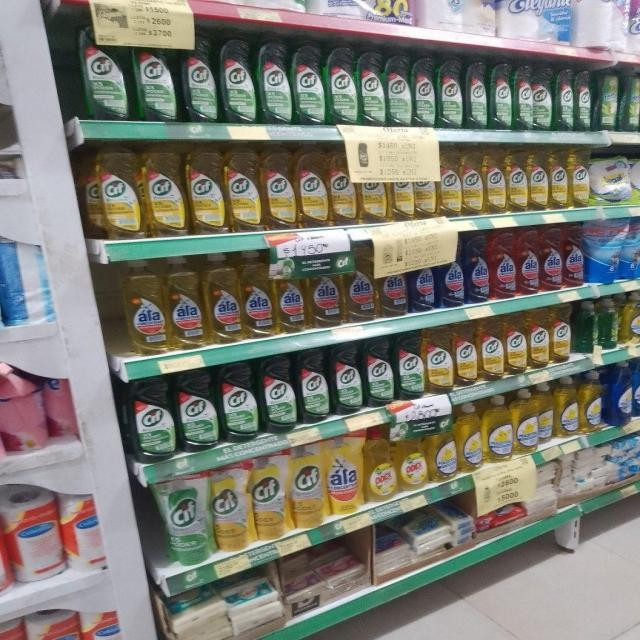ala_conc_amarillo: (122, 258, 166, 355), (168, 255, 205, 350), (206, 252, 241, 344), (242, 250, 274, 338), (343, 246, 376, 322), (275, 255, 305, 334), (377, 246, 407, 318), (308, 266, 342, 328)
ala_conc_azul: (437, 245, 464, 308), (465, 234, 489, 304), (409, 255, 435, 312)
ala_conc_rojo: (490, 230, 516, 300), (517, 228, 539, 295), (540, 226, 562, 292), (563, 224, 584, 288)
ala_sachet_amarillo: (327, 432, 363, 514)
cif_conc_bot_amarilla: (90, 146, 142, 241), (144, 147, 186, 238), (188, 147, 225, 235), (226, 147, 262, 233), (263, 146, 296, 231), (297, 145, 328, 228), (329, 146, 357, 226), (358, 149, 387, 224), (425, 327, 453, 394), (389, 154, 414, 222), (479, 317, 504, 381), (414, 154, 438, 220), (454, 322, 478, 387), (438, 152, 461, 218), (484, 150, 505, 214), (528, 308, 550, 368), (506, 151, 527, 213), (506, 313, 527, 375), (462, 152, 482, 216), (569, 150, 590, 208), (528, 152, 548, 212), (550, 306, 570, 364), (549, 151, 568, 210)
cif_conc_botella_verde: (78, 15, 130, 122), (128, 372, 175, 462), (135, 28, 178, 123), (177, 366, 219, 452), (181, 30, 218, 123), (220, 36, 256, 124), (220, 361, 259, 442), (258, 38, 292, 125), (294, 41, 326, 126), (262, 354, 296, 433), (327, 44, 358, 125), (298, 348, 330, 423), (332, 342, 363, 415), (359, 48, 385, 127), (365, 337, 394, 407), (396, 332, 424, 400), (387, 52, 411, 127), (438, 58, 463, 130), (413, 54, 436, 128), (465, 59, 488, 130), (490, 61, 512, 130), (534, 65, 554, 132), (514, 63, 532, 131), (555, 68, 574, 131), (575, 70, 593, 132)
cif_conc_sachet_amarillo: (212, 463, 251, 551), (252, 452, 288, 541), (290, 442, 325, 529)
cif_conc_sachet_verde: (164, 472, 209, 564)
magistral_con_amarillo: (483, 394, 512, 463), (428, 416, 456, 482), (457, 402, 482, 472), (514, 388, 537, 454), (580, 370, 604, 433), (555, 376, 579, 437), (537, 381, 554, 446), (623, 292, 640, 344)
magistral_con_azul: (633, 357, 640, 419)
